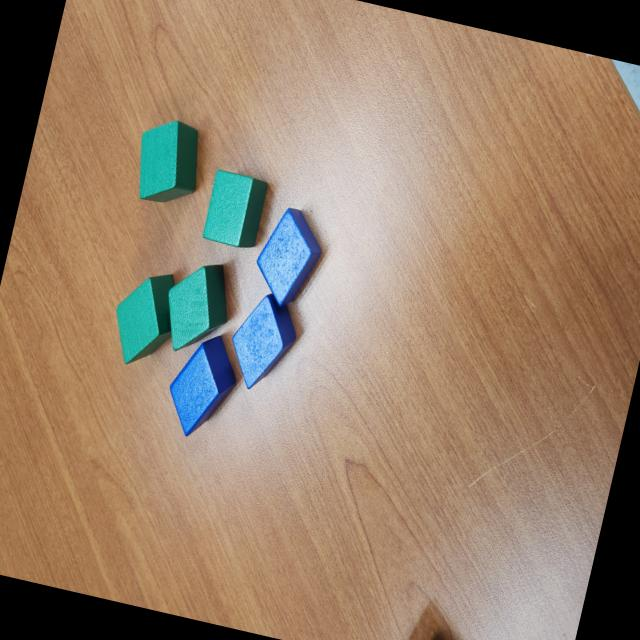blue: (160, 326, 246, 444), (246, 202, 330, 314), (222, 286, 304, 396)
green: (153, 253, 242, 362), (102, 264, 186, 374), (126, 112, 211, 210), (197, 168, 270, 250)
